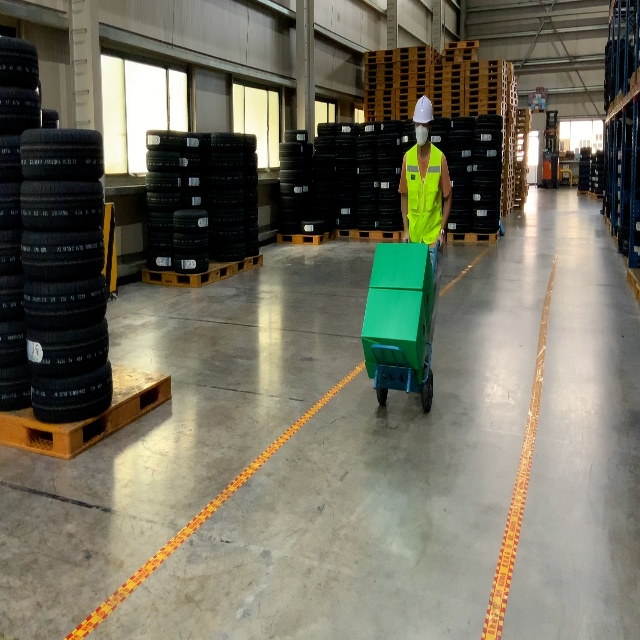Box: (361, 287, 428, 386), (369, 242, 434, 335)
Worker: (398, 95, 453, 370)
